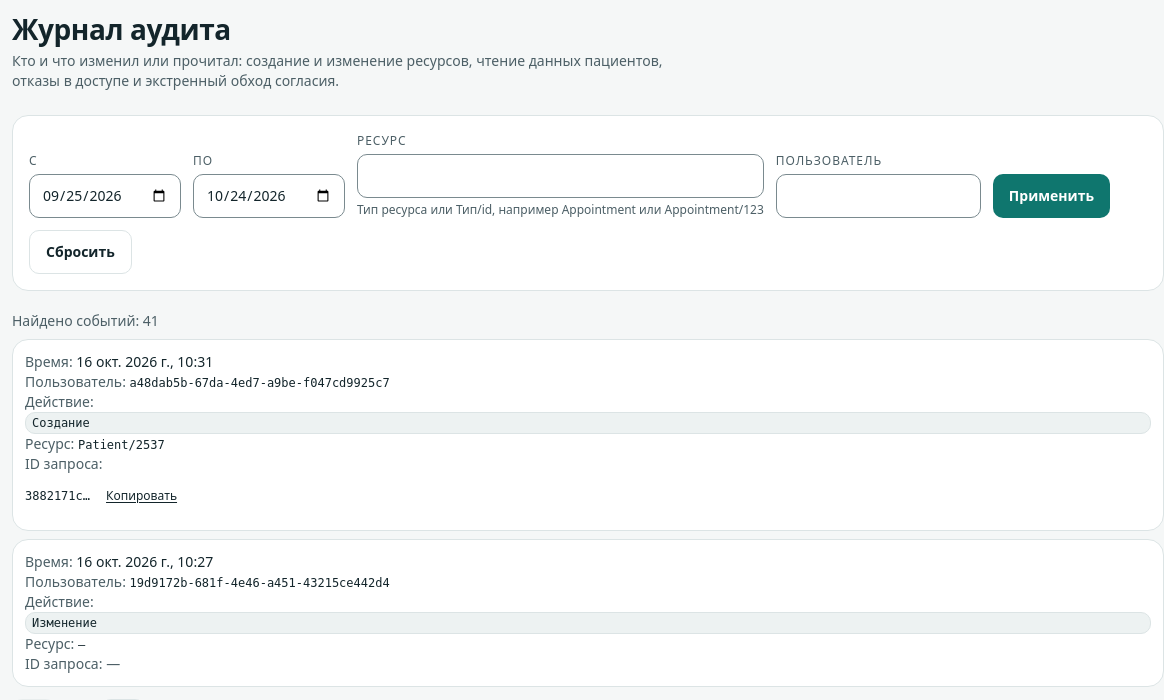
Test: AuditPanel › should restore the default period and clear the text filters when «Сбросить» is pressed
The image size is (1164, 700).
Expected: the text "Найдено событий: 41" is shown, [12,311,159,330]
Step 1. Type "Patient" into the field labelled "Ресурс" → (560, 176), box [357,154,764,198]
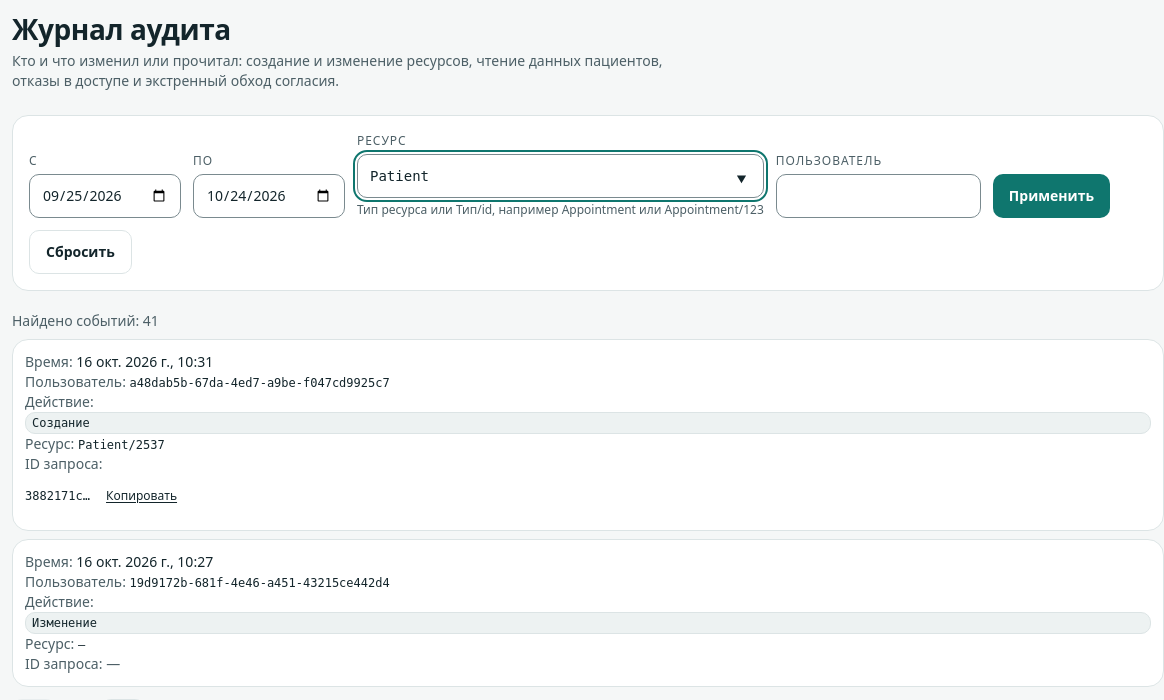
Step 2. Click the button "Применить" → (1051, 196), box [993,174,1110,218]
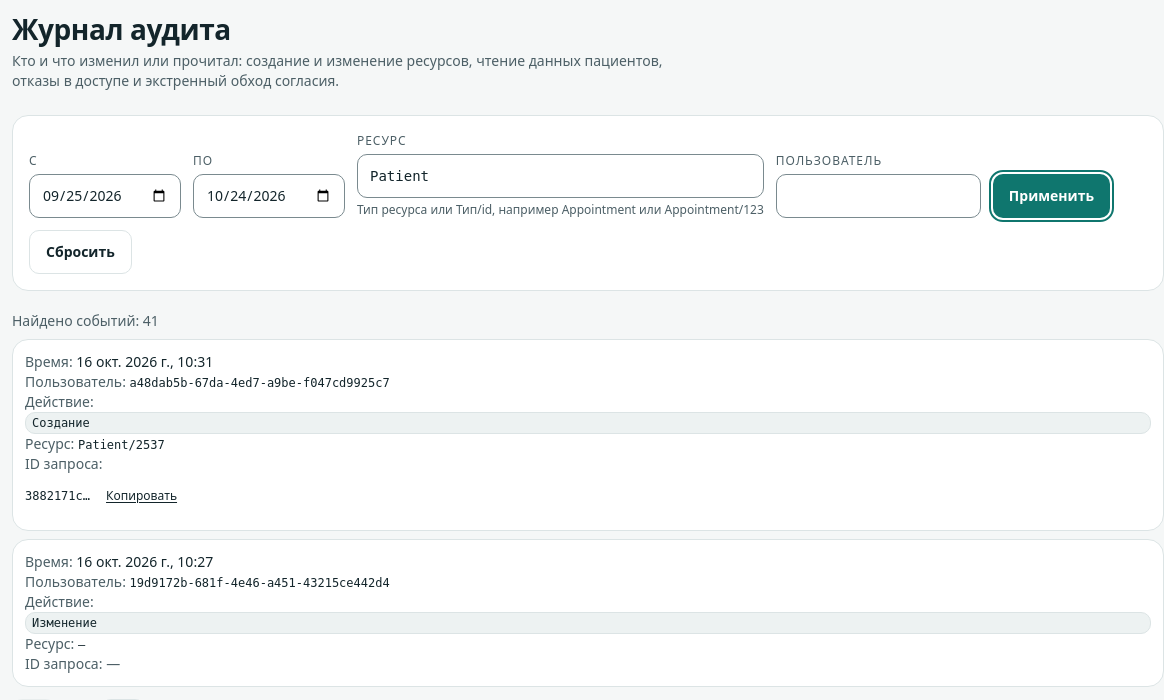
Step 3. Click the button "Сбросить" → (80, 252), box [29,230,132,274]
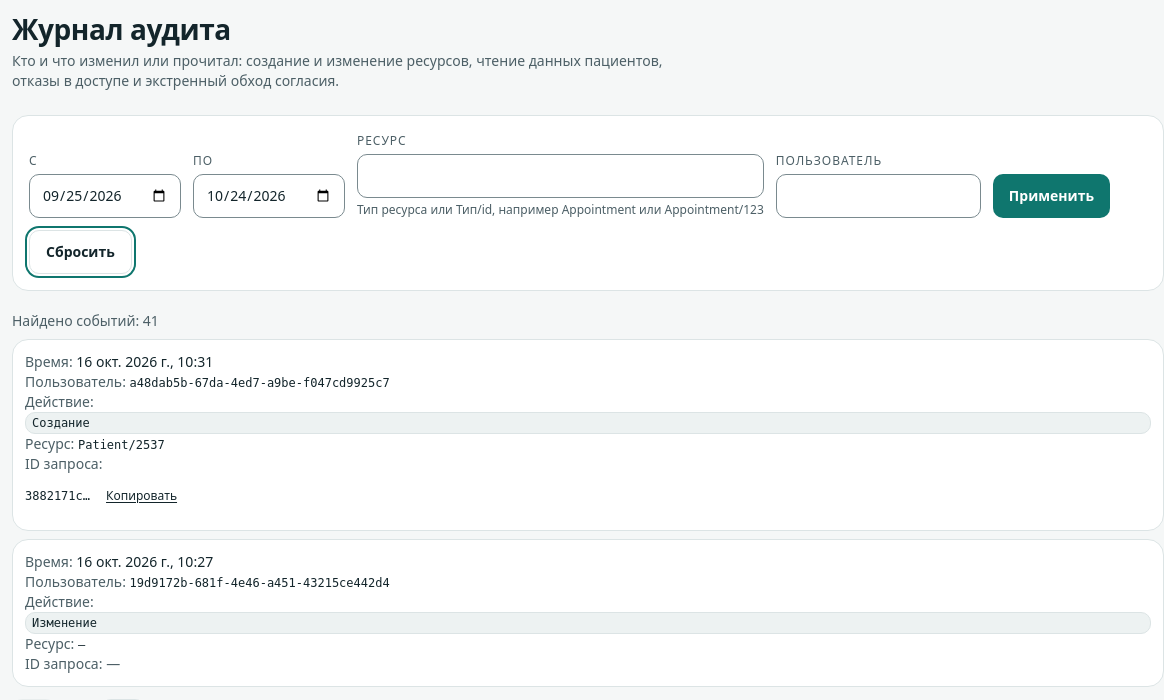
Result: the field labelled "Ресурс" is empty at [357,154,764,198]
